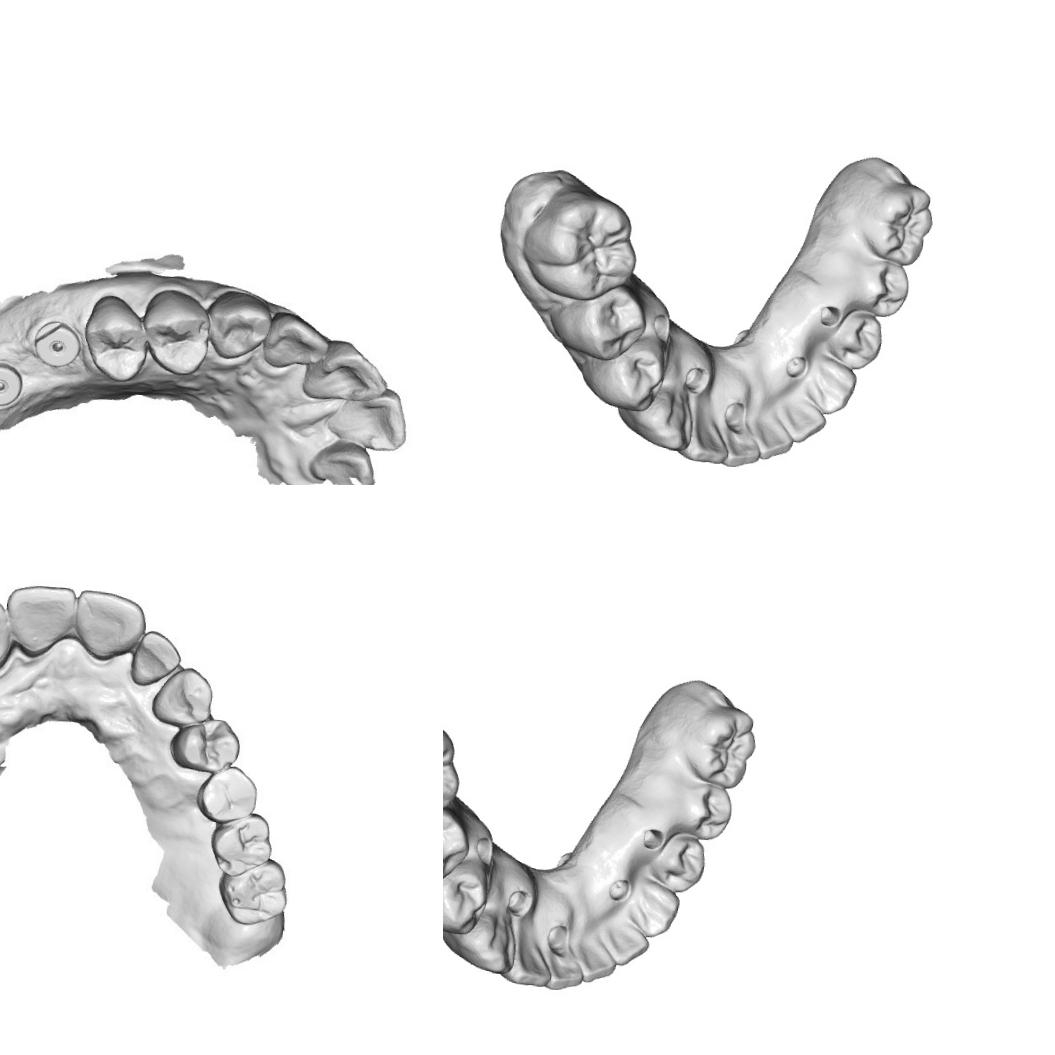canine: (205, 288, 277, 365), (148, 664, 218, 730), (634, 389, 692, 452), (457, 912, 515, 975), (803, 353, 857, 416), (626, 876, 680, 939)
implant: (33, 318, 79, 371), (0, 351, 26, 412)
incisor: (296, 338, 394, 406), (0, 580, 80, 656), (321, 386, 405, 451), (260, 306, 331, 379), (76, 586, 146, 660), (680, 402, 730, 468), (503, 926, 553, 992), (129, 626, 185, 684), (750, 413, 796, 462), (604, 918, 650, 966), (573, 936, 618, 985), (543, 941, 583, 994), (781, 396, 827, 442), (720, 419, 760, 470), (0, 594, 12, 669)
molar: (515, 183, 643, 306), (853, 176, 936, 264), (676, 700, 759, 788), (211, 854, 292, 932), (210, 815, 272, 878)
premolar: (78, 291, 156, 383), (596, 330, 671, 413), (145, 288, 210, 380), (568, 286, 646, 362), (847, 255, 913, 322), (670, 778, 736, 845), (443, 852, 494, 935), (198, 764, 262, 826), (824, 306, 884, 370), (648, 830, 708, 894), (172, 718, 239, 773), (443, 809, 468, 885)
